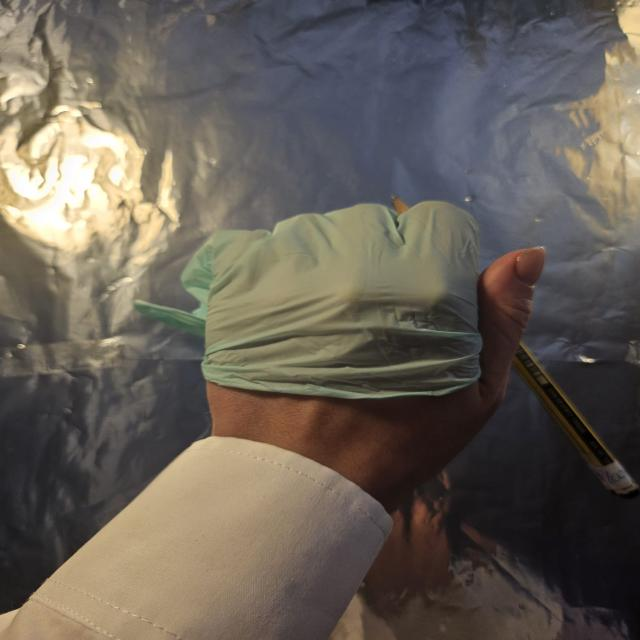glove_partial: (134, 201, 546, 514)
